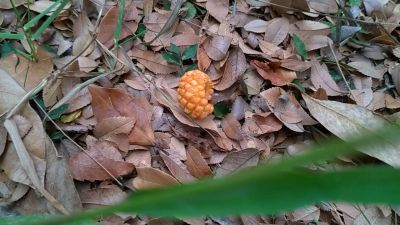eggs: (174, 67, 216, 122)
